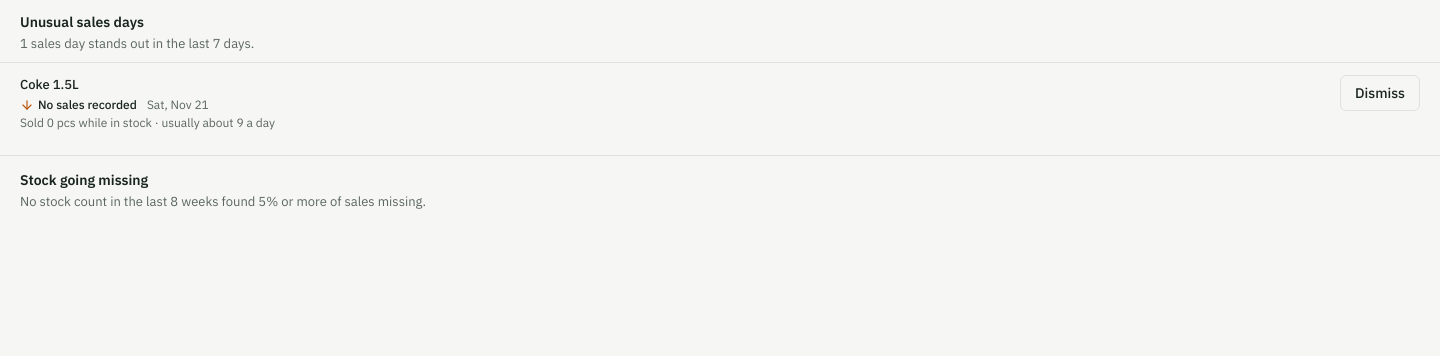
WorthALookList › cancel closes the form and puts focus back on Dismiss
Click the button with aria-label "Dismiss alert for": [1380, 93] box [1340,75,1420,111]
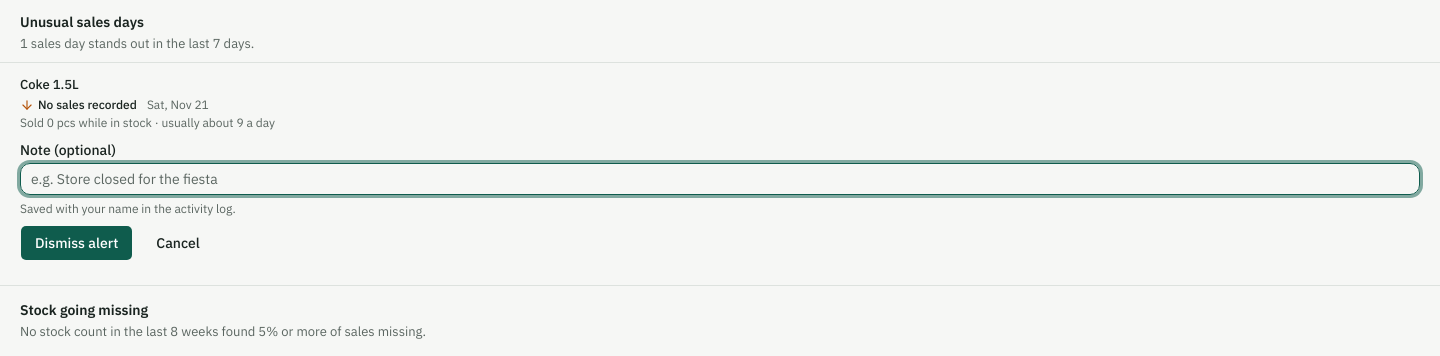
Click the button "Cancel": [178, 243] box [141,225,215,261]
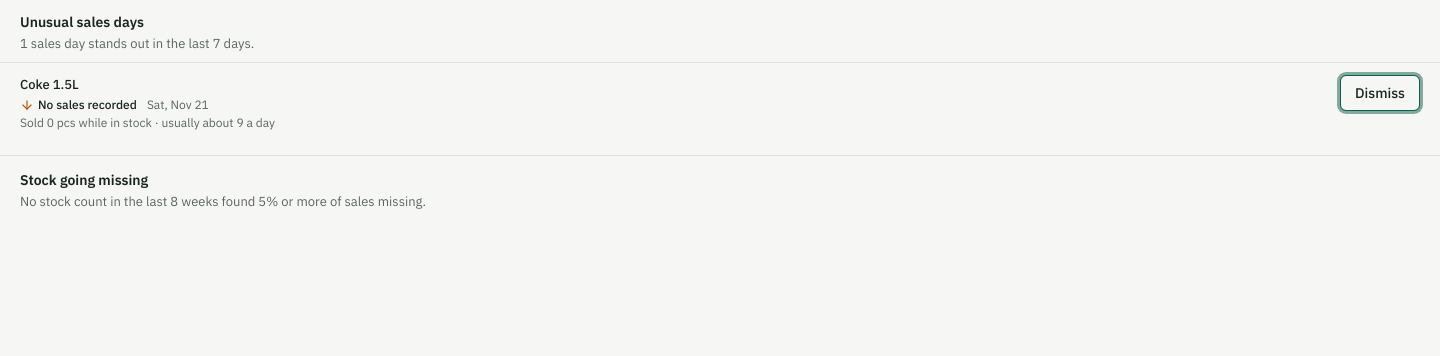
Result: the field is gone
